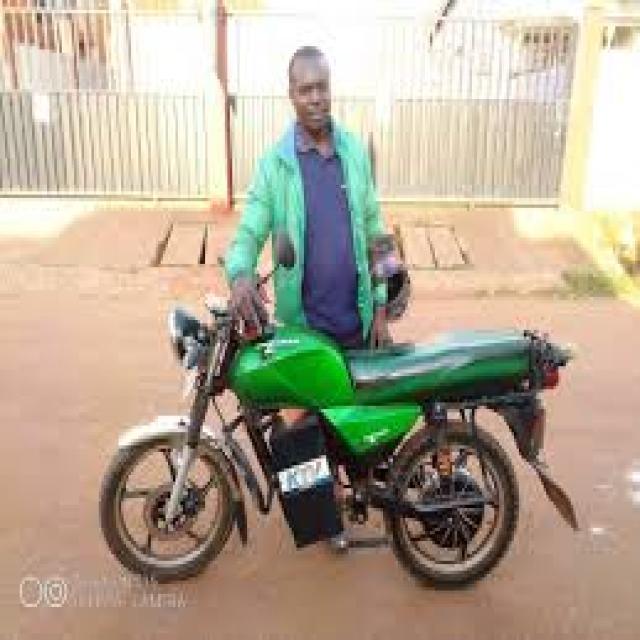bodaboda: (58, 189, 608, 618)
